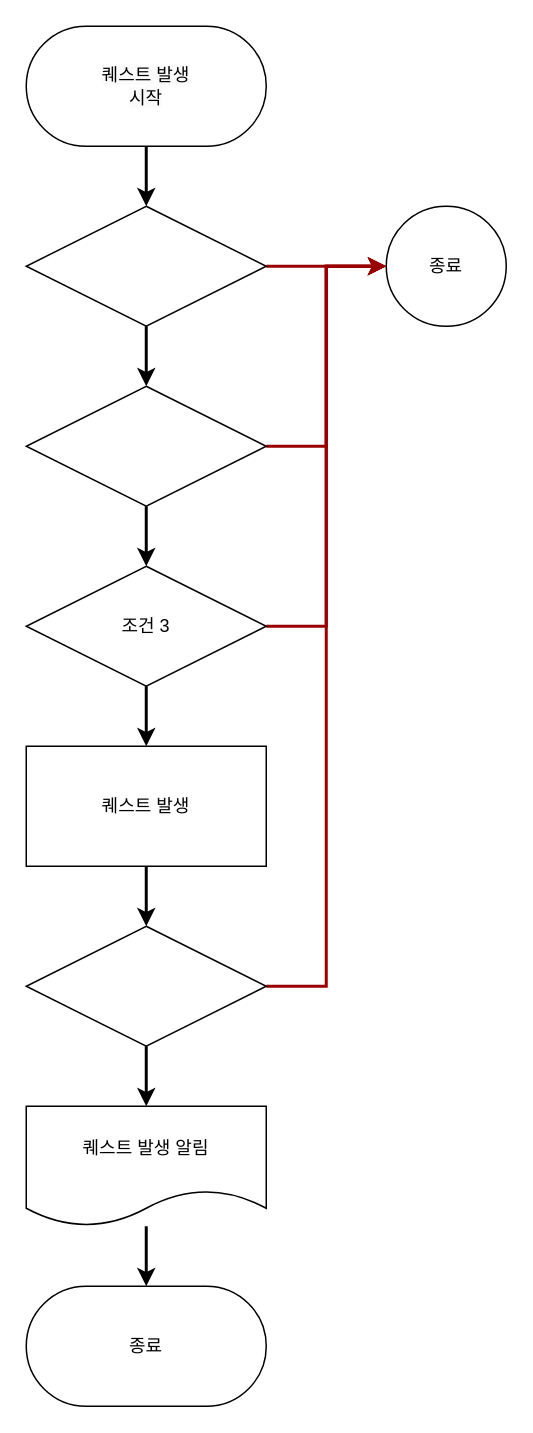
This 533x1433 diagram has some shape labels left out. Here are the shapes that lost their labels. From the top down, the centre of each, then its label:
(145,265): 조건 1
(145,445): 조건 2
(145,985): 퀘스트 알림이 있는가
